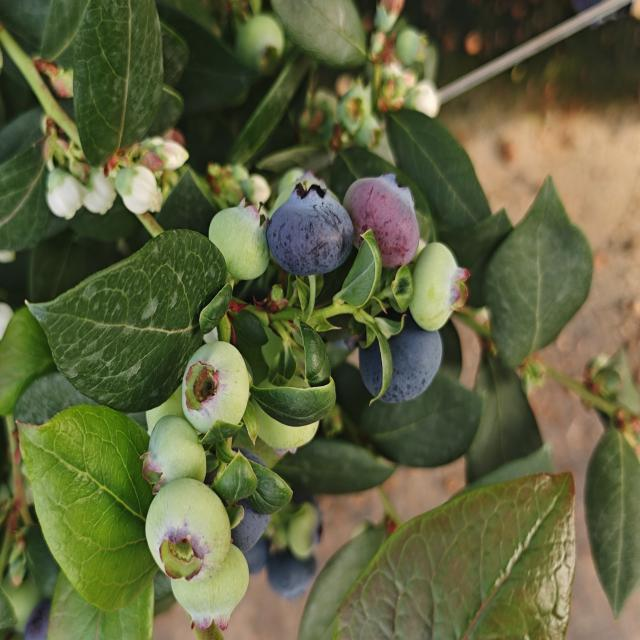ripe: (263, 174, 356, 286), (355, 303, 447, 412), (214, 440, 272, 558), (264, 536, 324, 608), (17, 584, 62, 640)
